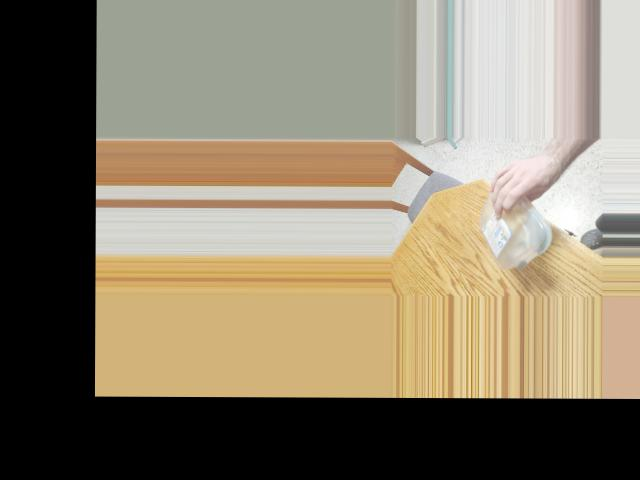cheese: (474, 178, 550, 272)
